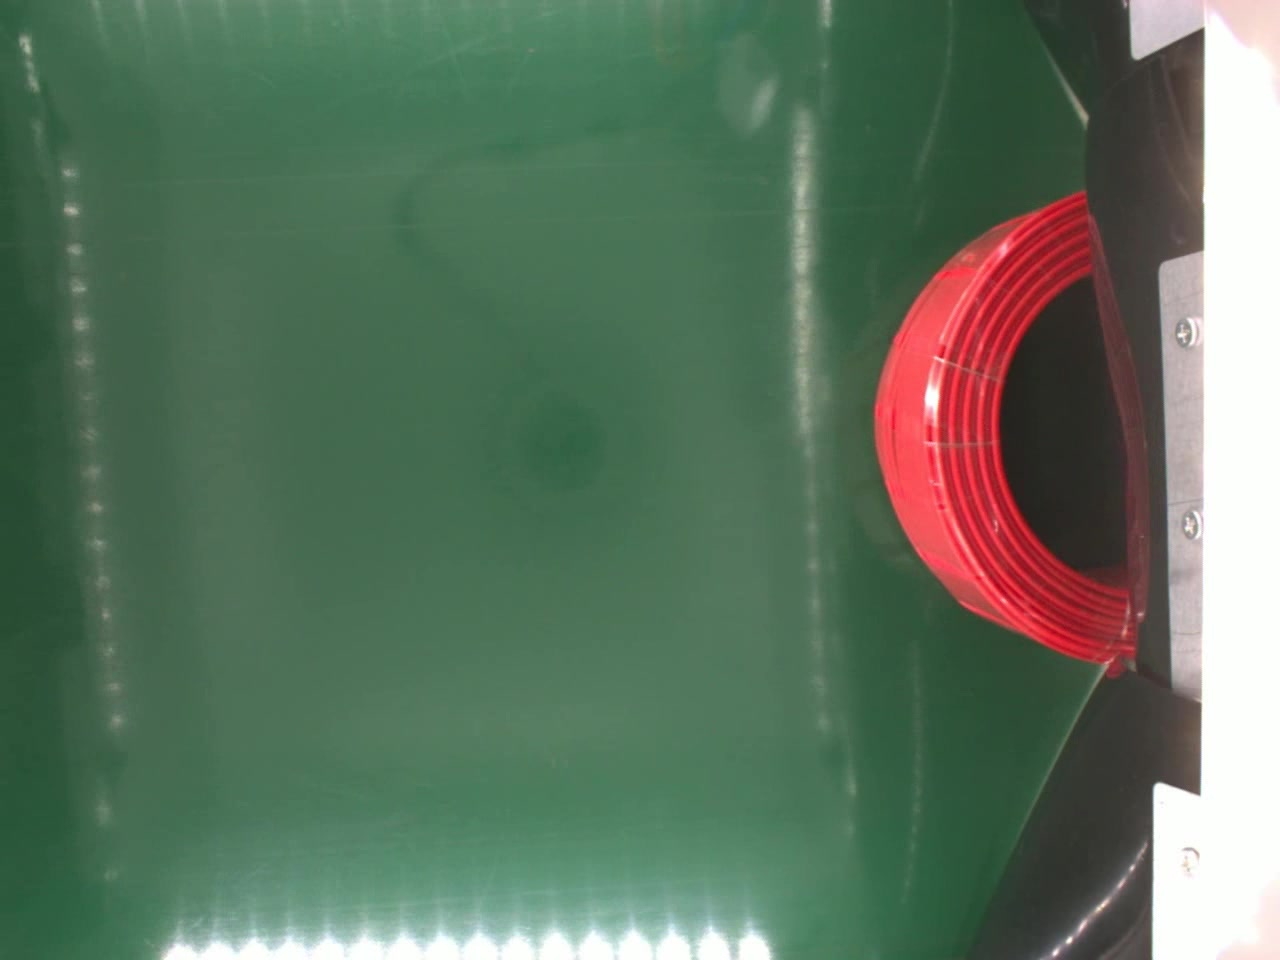red: (871, 190, 1130, 670)
